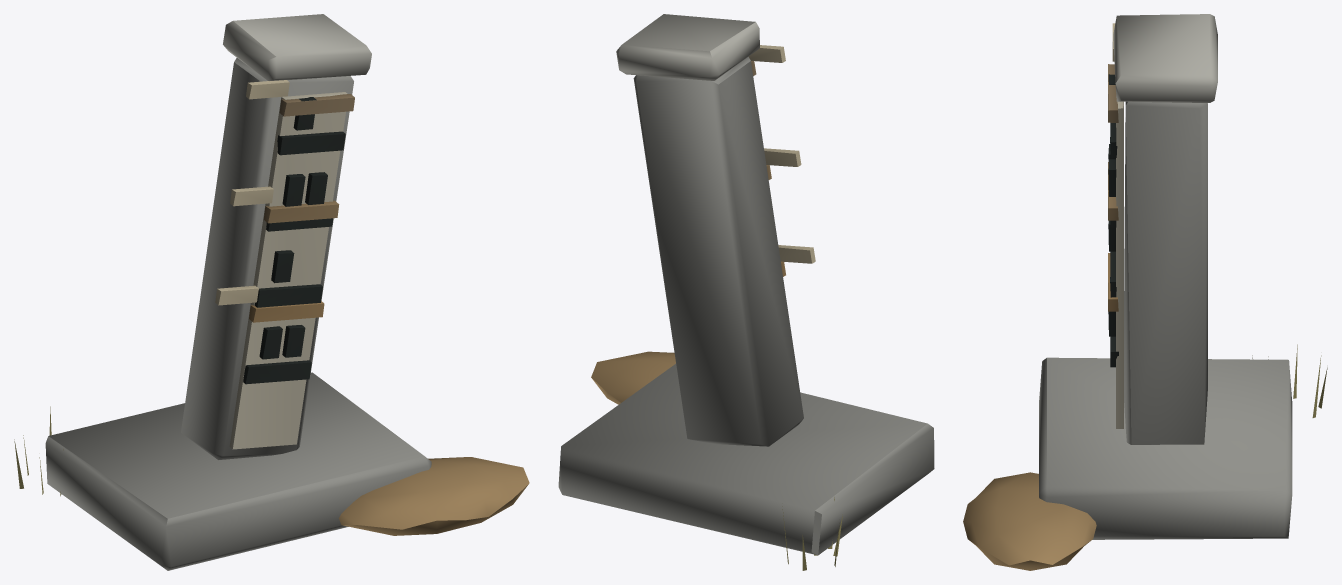
The model's file is flood_staff_b_lod1.glb.
3 views of the same model, side by side, from view 1: azimuth 30°, elevation 25°; view 2: azimuth 150°, elevation 25°; view 3: azimuth 270°, elevation 25° (orthographic). The views are drawn at different scales.
Visible parts, largest first — view 1: Surface.001; view 2: Surface.001; view 3: Surface.001.
Part boxes in pixels (bbox=[...]): Surface.001: bbox=[14, 14, 529, 570]; Surface.001: bbox=[558, 14, 934, 570]; Surface.001: bbox=[963, 14, 1327, 570].
Bounding box in the file's own units: 2.23 × 2.6 × 1.8.
